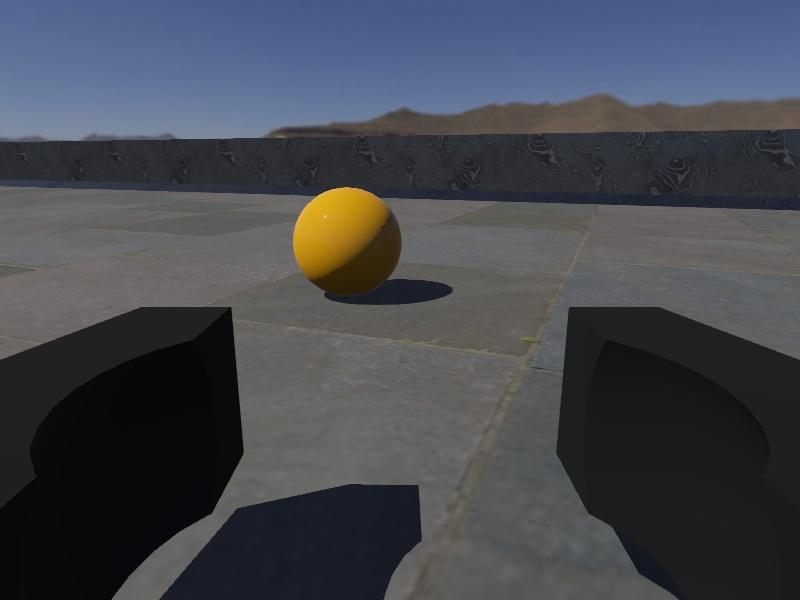orange ball: (292, 186, 403, 299)
